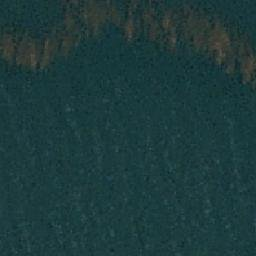debris: (1, 26, 45, 73), (186, 13, 226, 53), (142, 13, 184, 46), (48, 20, 77, 61), (65, 1, 116, 22), (223, 39, 255, 69), (238, 66, 256, 85), (124, 13, 134, 40)
